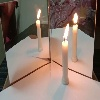fire: (63, 24, 69, 43)
